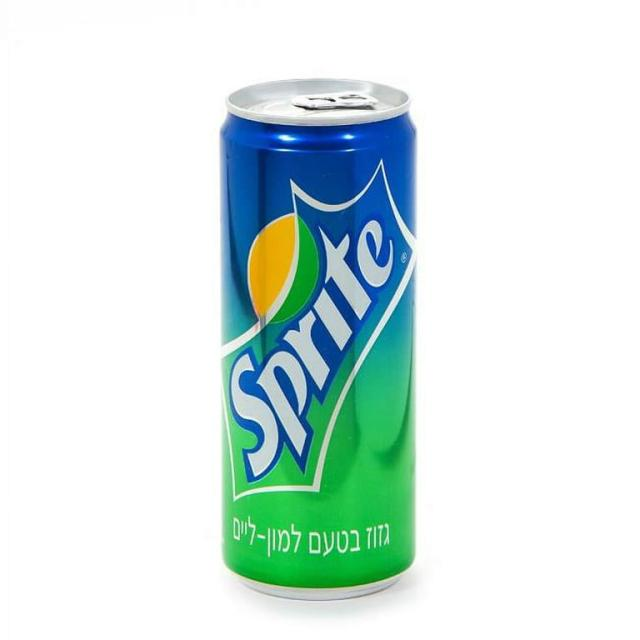sprite: (204, 63, 446, 611)
